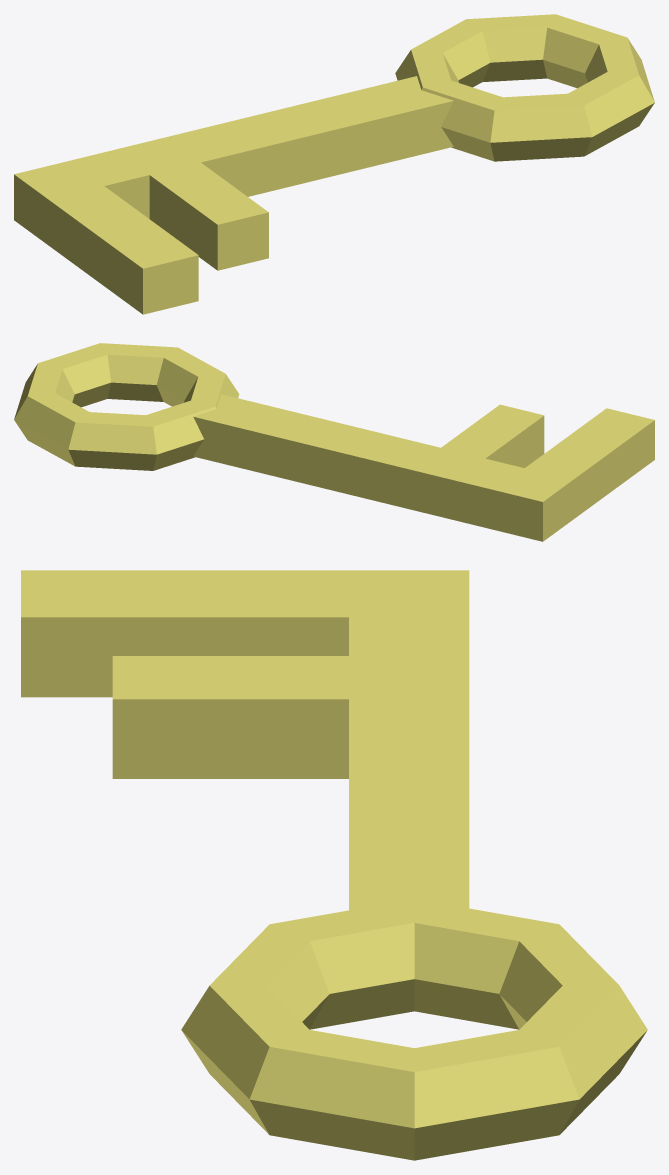
The model's file is Key.fbx.
3 renders of one model, top to bottom at view 1: azimuth 30°, elevation 25°; view 2: azimuth 150°, elevation 25°; view 3: azimuth 270°, elevation 25°, orthographic. The views are drawn at different scales.
Visible parts, largest first — view 1: pCube15; view 2: pCube15; view 3: pCube15.
Part boxes in pixels (x1,y1,x2,y2): pCube15: (14,14,654,314); pCube15: (14,343,654,541); pCube15: (21,570,647,1160).
Bounding box in the file's own units: 4.43 × 0.3526 × 2.26.
